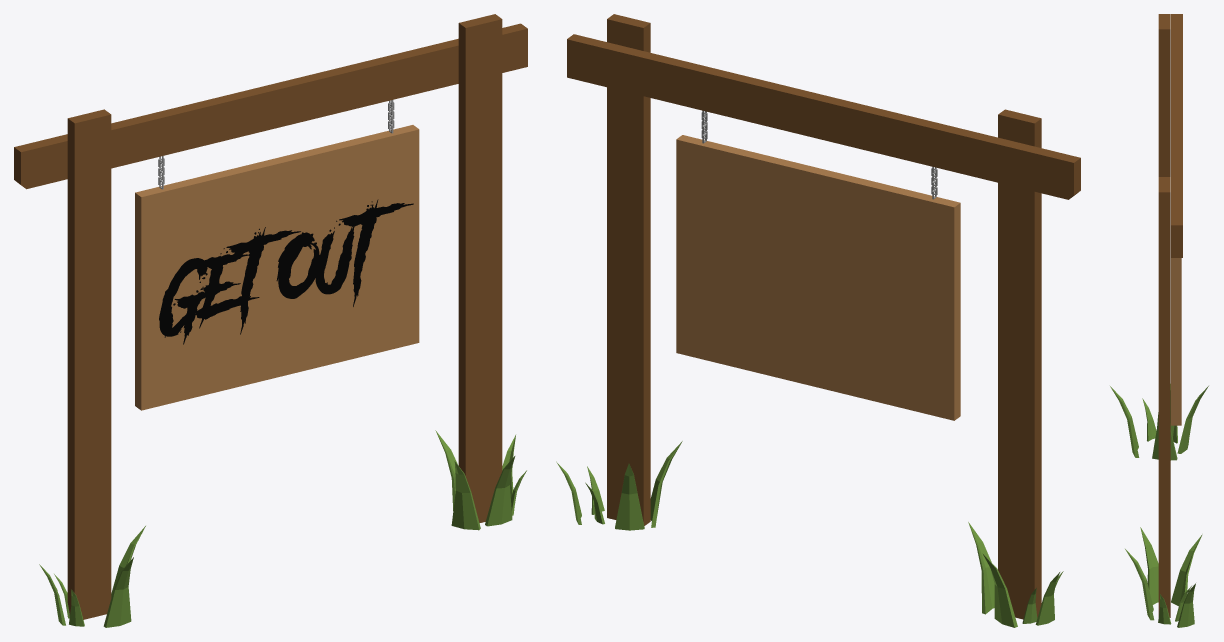
File: woodSign.glb
3 renders of one model, left to right at view 1: azimuth 30°, elevation 25°; view 2: azimuth 150°, elevation 25°; view 3: azimuth 270°, elevation 25°, orthographic. The views are drawn at different scales.
Visible parts, largest first — view 1: Sign4, Text; view 2: Sign4; view 3: Sign4.
Part boxes in pixels (x1=…): Sign4: x1=14, y1=14, x2=527, y2=627; Text: x1=159, y1=199, x2=413, y2=344; Sign4: x1=556, y1=14, x2=1080, y2=627; Sign4: x1=1110, y1=14, x2=1208, y2=627.
Size of the model in its own units: 2.22 by 2.08 by 0.4436.
